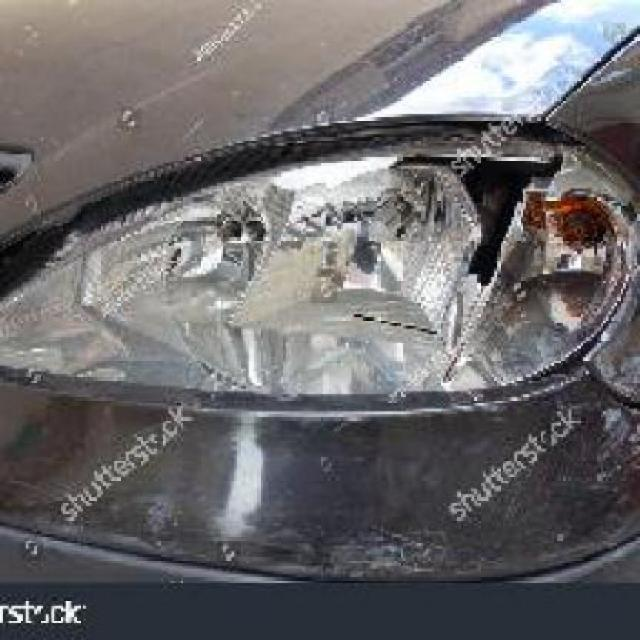damaged-head-light: (0, 120, 637, 406)
